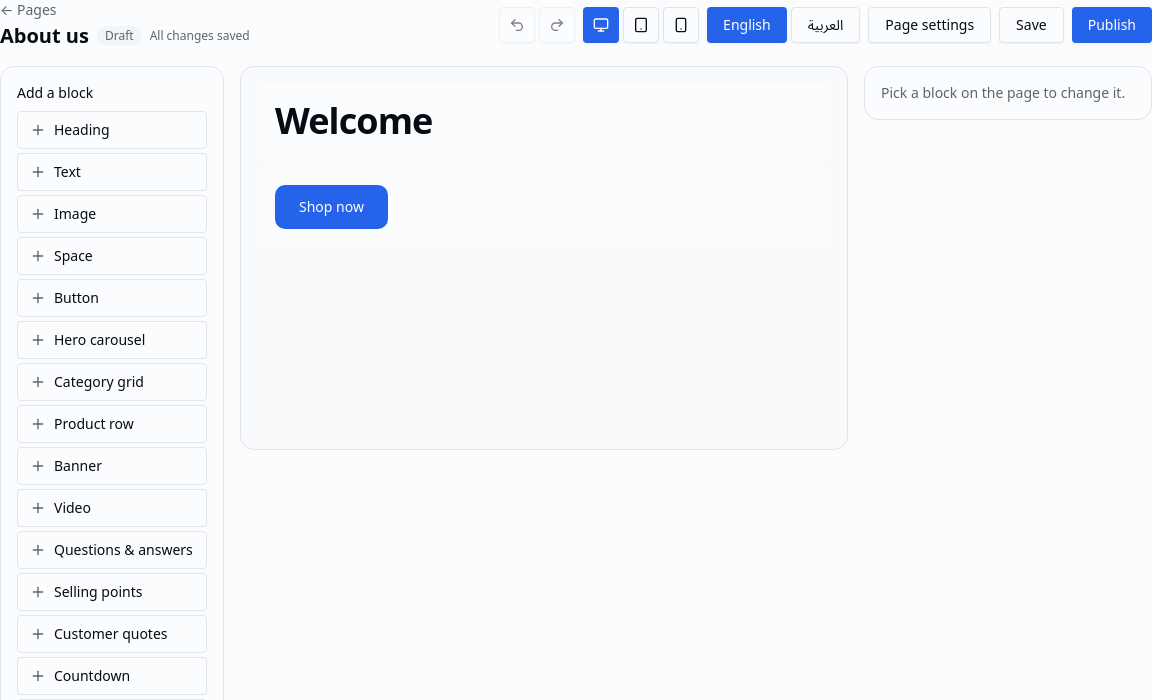
page settings › shows the server’s complaint about the address next to the field
Click the button "Page settings" at [930, 25], box [868,7,991,43]
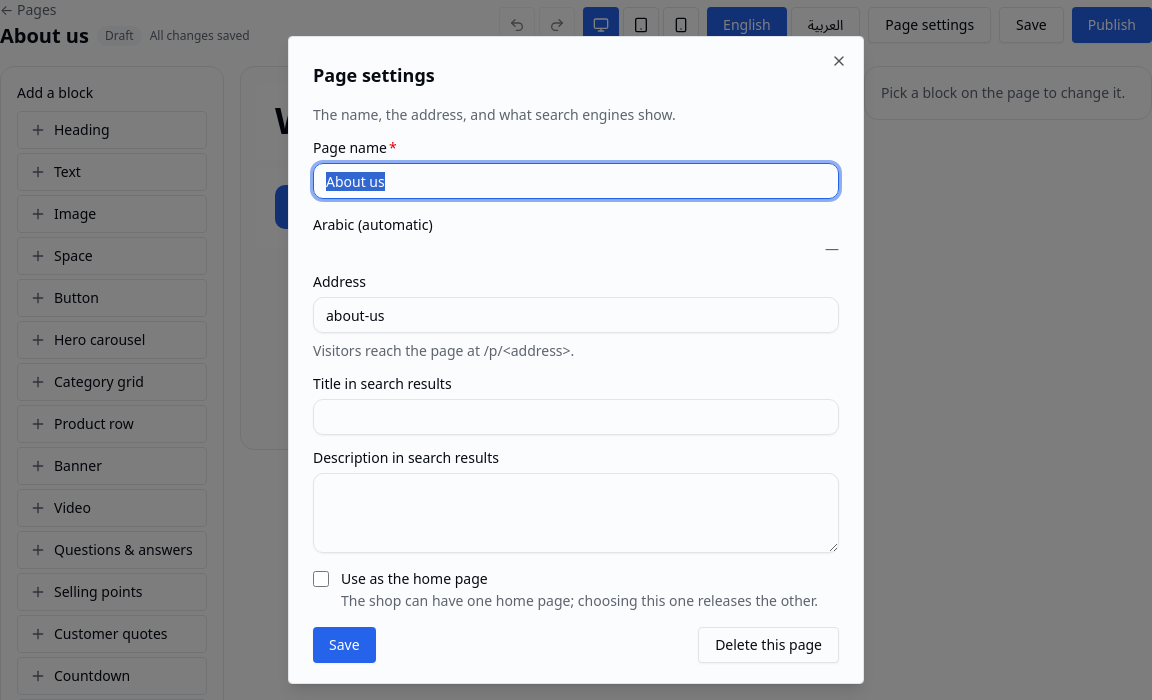
Click the button "Save" at [344, 645], box [313,627,376,663]
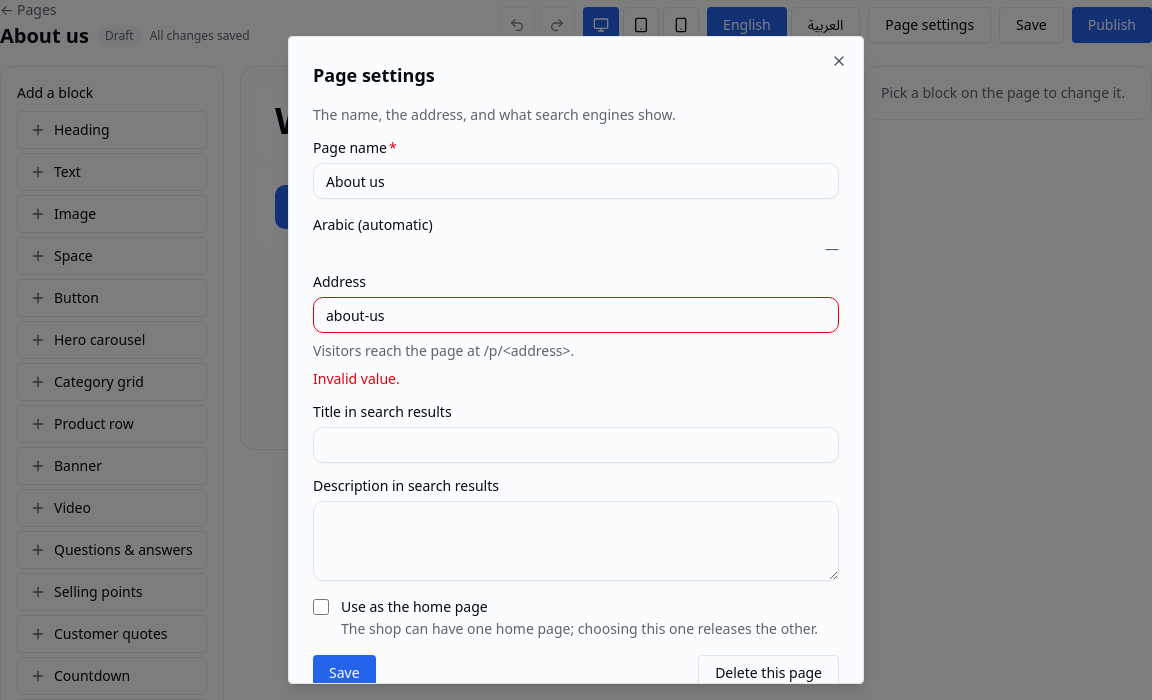
Now the message "Invalid value." is shown, box [313,369,400,388]
